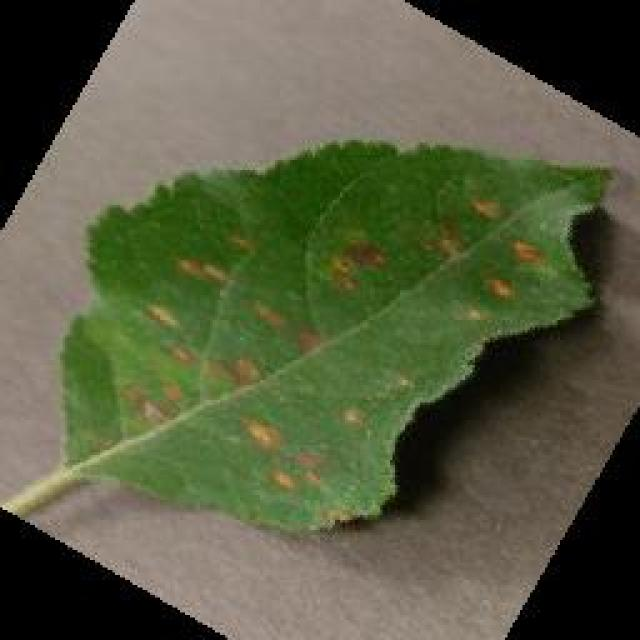apple healthy: (50, 132, 618, 538)
